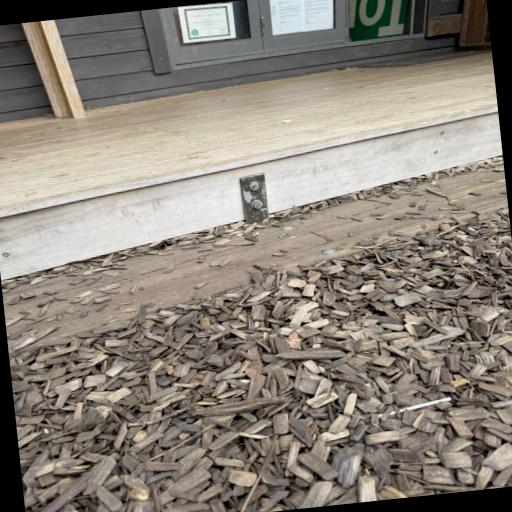step: (0, 109, 507, 355), (128, 167, 134, 169)
